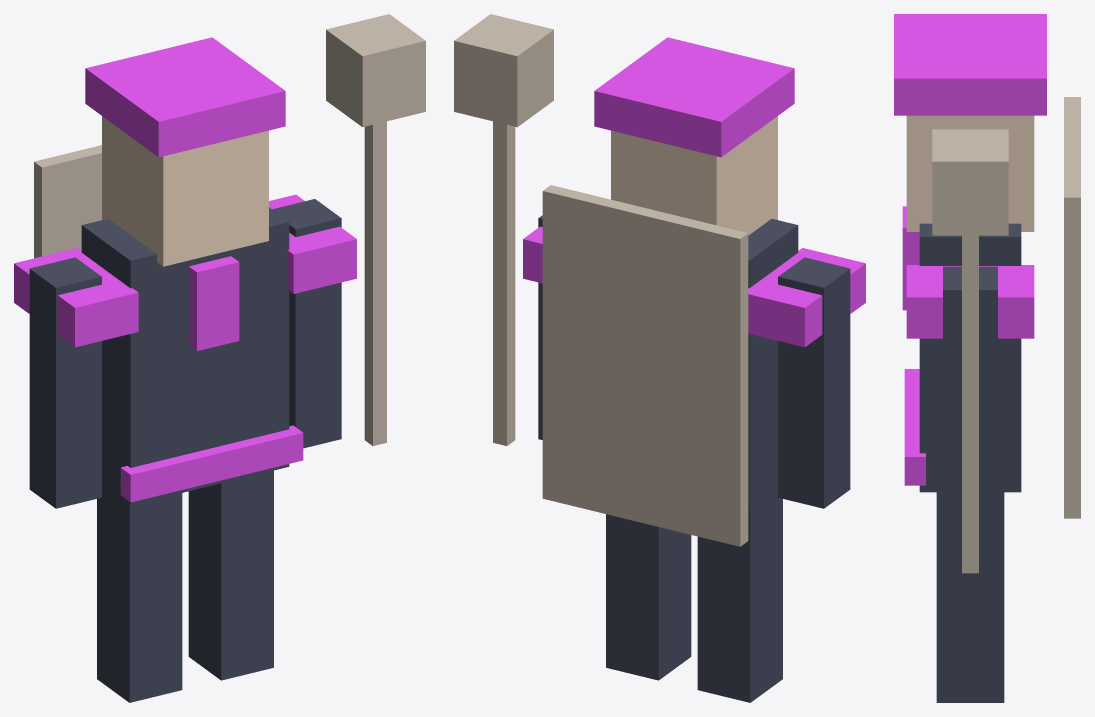
File: 04_tovin_gravesong_runner_at_life.glb
The picture shows the model from 3 angles, left to right: view 1: azimuth 30°, elevation 25°; view 2: azimuth 150°, elevation 25°; view 3: azimuth 270°, elevation 25°; orthographic projection. The views are drawn at different scales.
Parts seen in each view (by area): view 1: Tovin Gravesong, Runner at Life; view 2: Tovin Gravesong, Runner at Life; view 3: Tovin Gravesong, Runner at Life.
Part boxes in pixels (x1,y1,x2,y2): Tovin Gravesong, Runner at Life: (14, 14, 425, 702); Tovin Gravesong, Runner at Life: (454, 14, 865, 702); Tovin Gravesong, Runner at Life: (894, 14, 1080, 702).
Size of the model in its own units: 1.09 by 1.69 by 0.463.
